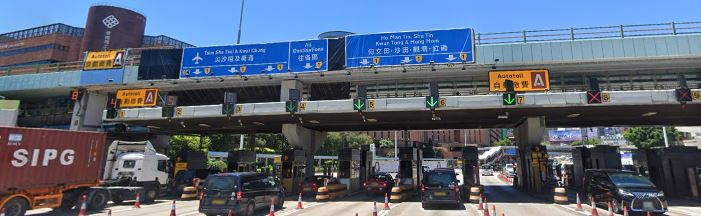Autotoll: (488, 70, 554, 91), (111, 82, 158, 108), (81, 47, 127, 71)
